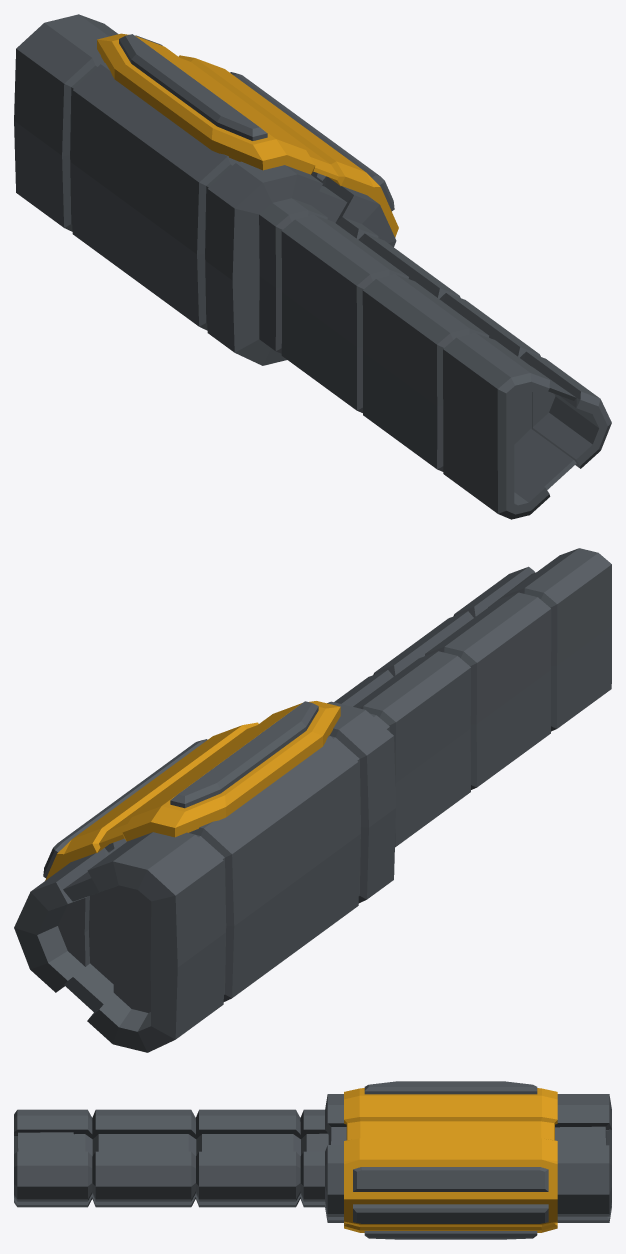
The model's file is Fighter_10_Thruster_Left_Yellow.fbx.
The picture shows the model from 3 angles, top to bottom: view 1: azimuth 30°, elevation 25°; view 2: azimuth 150°, elevation 25°; view 3: azimuth 270°, elevation 25°; orthographic projection. The views are drawn at different scales.
Visible parts, largest first — view 1: Fighter_10_Thruster_Left_Yellow; view 2: Fighter_10_Thruster_Left_Yellow; view 3: Fighter_10_Thruster_Left_Yellow.
Boxes of the visible parts, box(x1,y1,x2,y2) form: Fighter_10_Thruster_Left_Yellow: box(14, 14, 611, 519); Fighter_10_Thruster_Left_Yellow: box(14, 548, 611, 1052); Fighter_10_Thruster_Left_Yellow: box(14, 1081, 611, 1239).
Size of the model in its own units: 311 by 362 by 1360.
2 materials, 2 textured.
